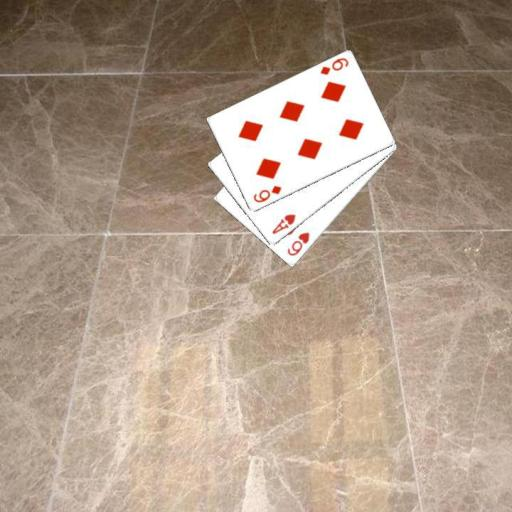6D: (250, 182, 283, 204), (317, 55, 350, 77)
6H: (284, 229, 311, 257)
AH: (269, 211, 297, 236)
